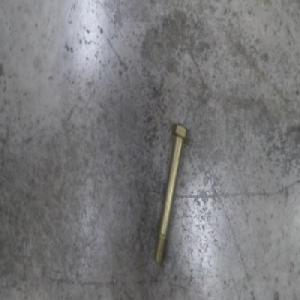Bolt: (153, 120, 188, 265)
